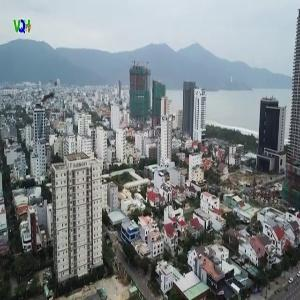drone: (19, 68, 75, 124)
